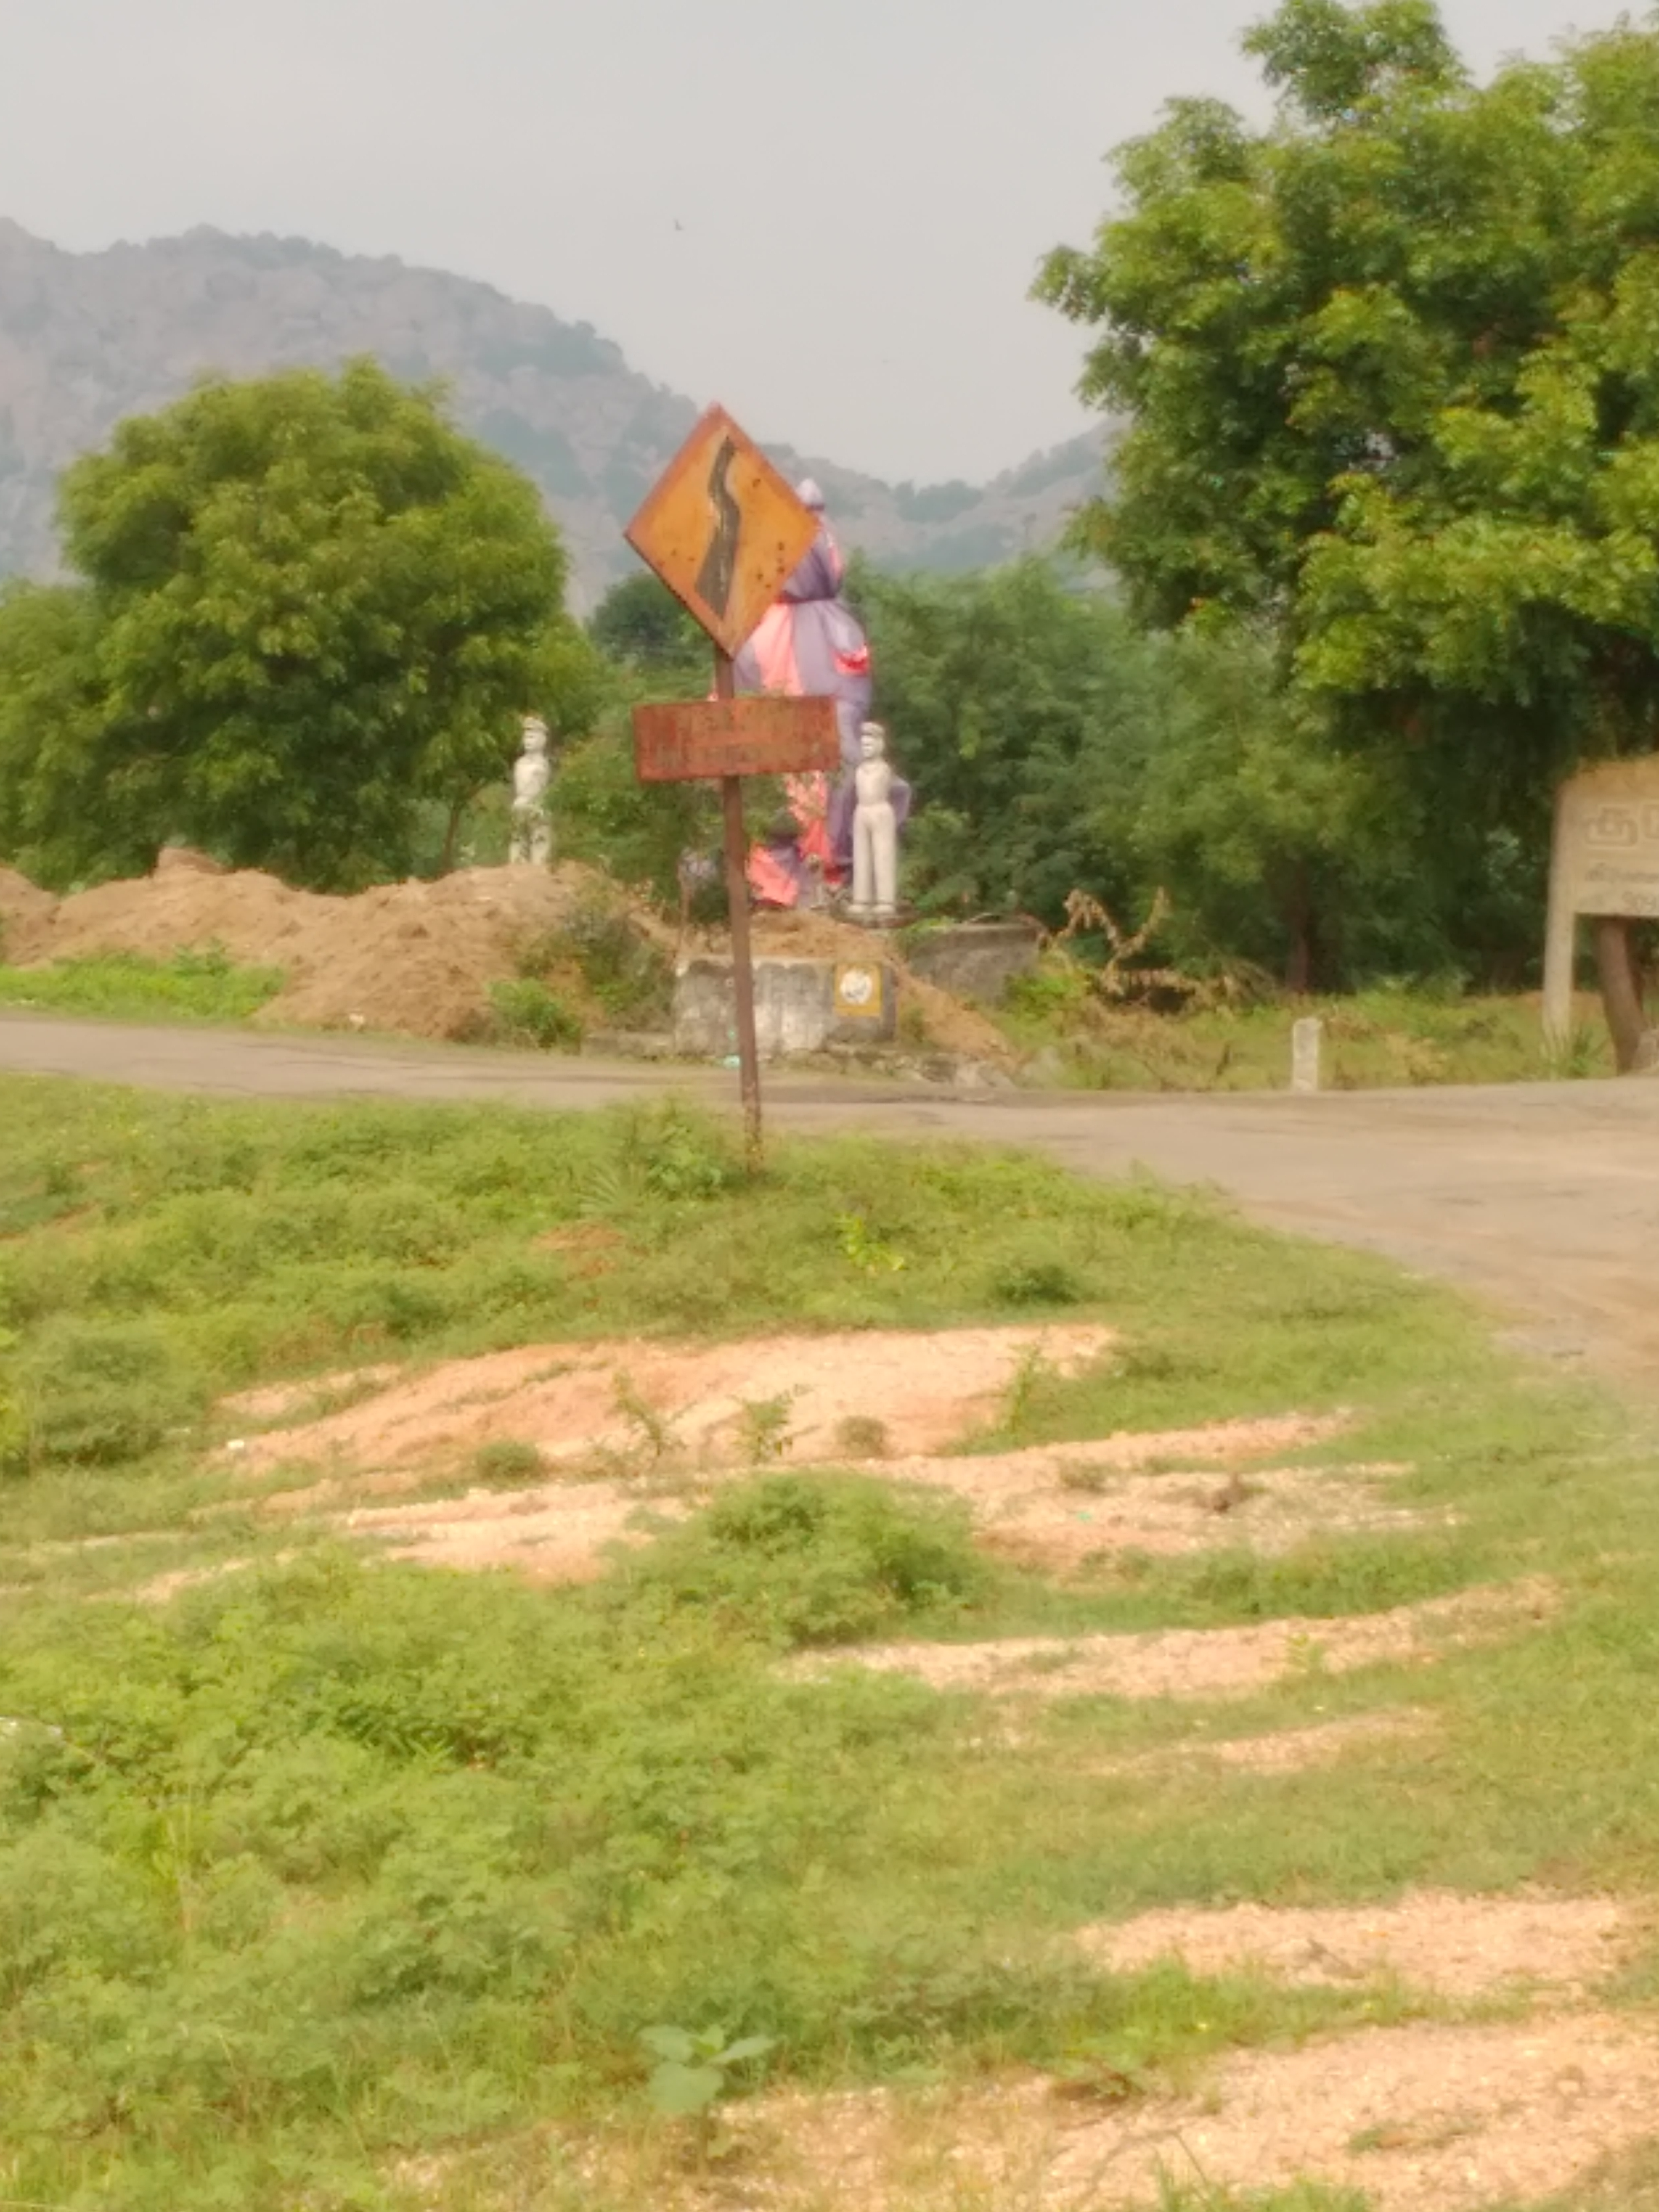traffic_sign: (626, 402, 840, 667)
